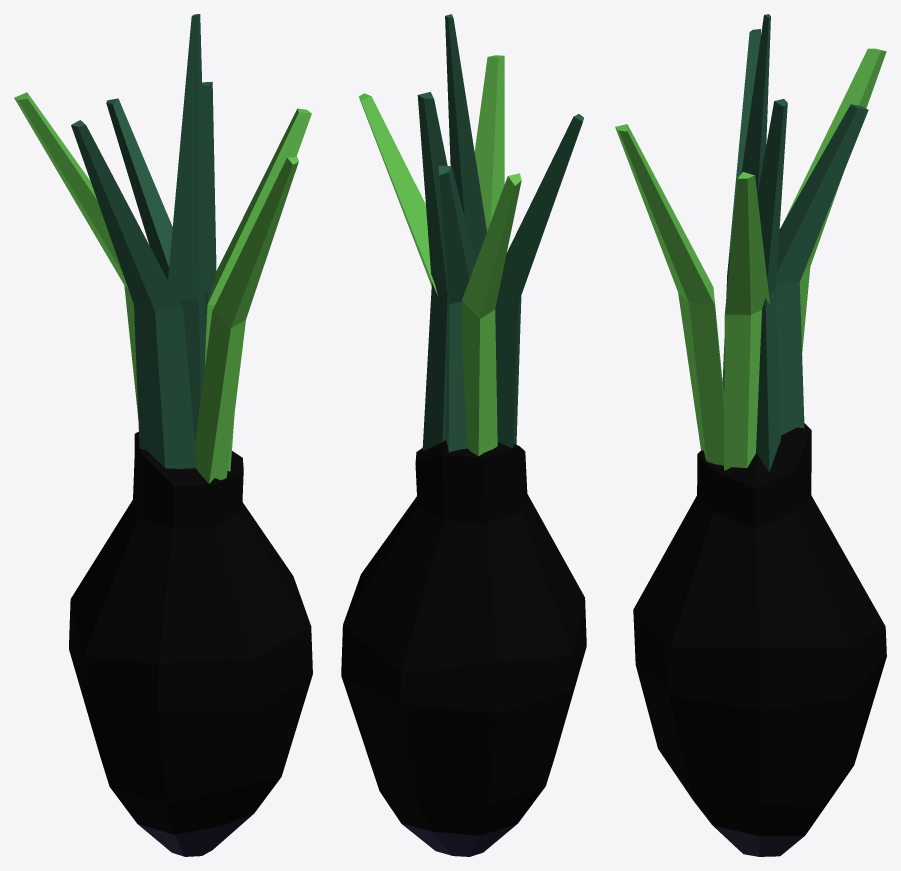
Rendered from Onion_M.fbx.
3 renders of one model, left to right at view 1: azimuth 30°, elevation 25°; view 2: azimuth 150°, elevation 25°; view 3: azimuth 270°, elevation 25°, orthographic.
Visible parts, largest first — view 1: Onion_M; view 2: Onion_M; view 3: Onion_M.
Boxes of the visible parts, <box> form: Onion_M: <box>14,14,312,856</box>; Onion_M: <box>341,14,586,856</box>; Onion_M: <box>615,14,886,856</box>.
Size of the model in its own units: 12.57 by 43.33 by 12.75.
